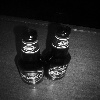beer: (16, 28, 48, 85)
